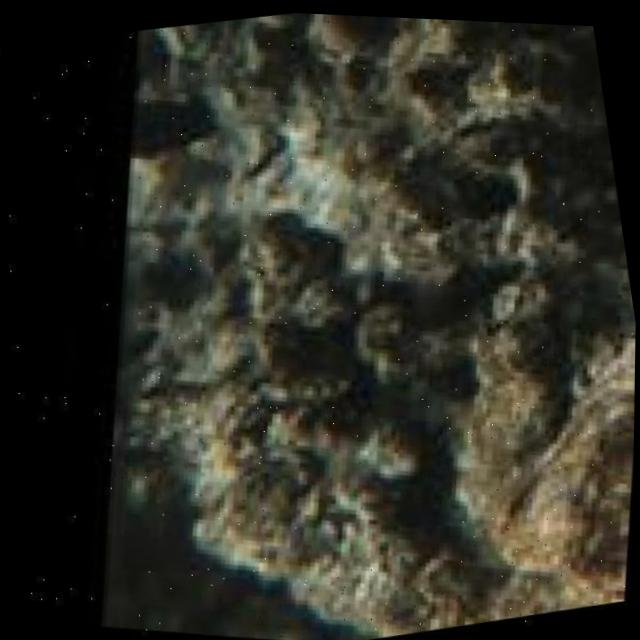Dead Coral: (7, 0, 640, 640)
